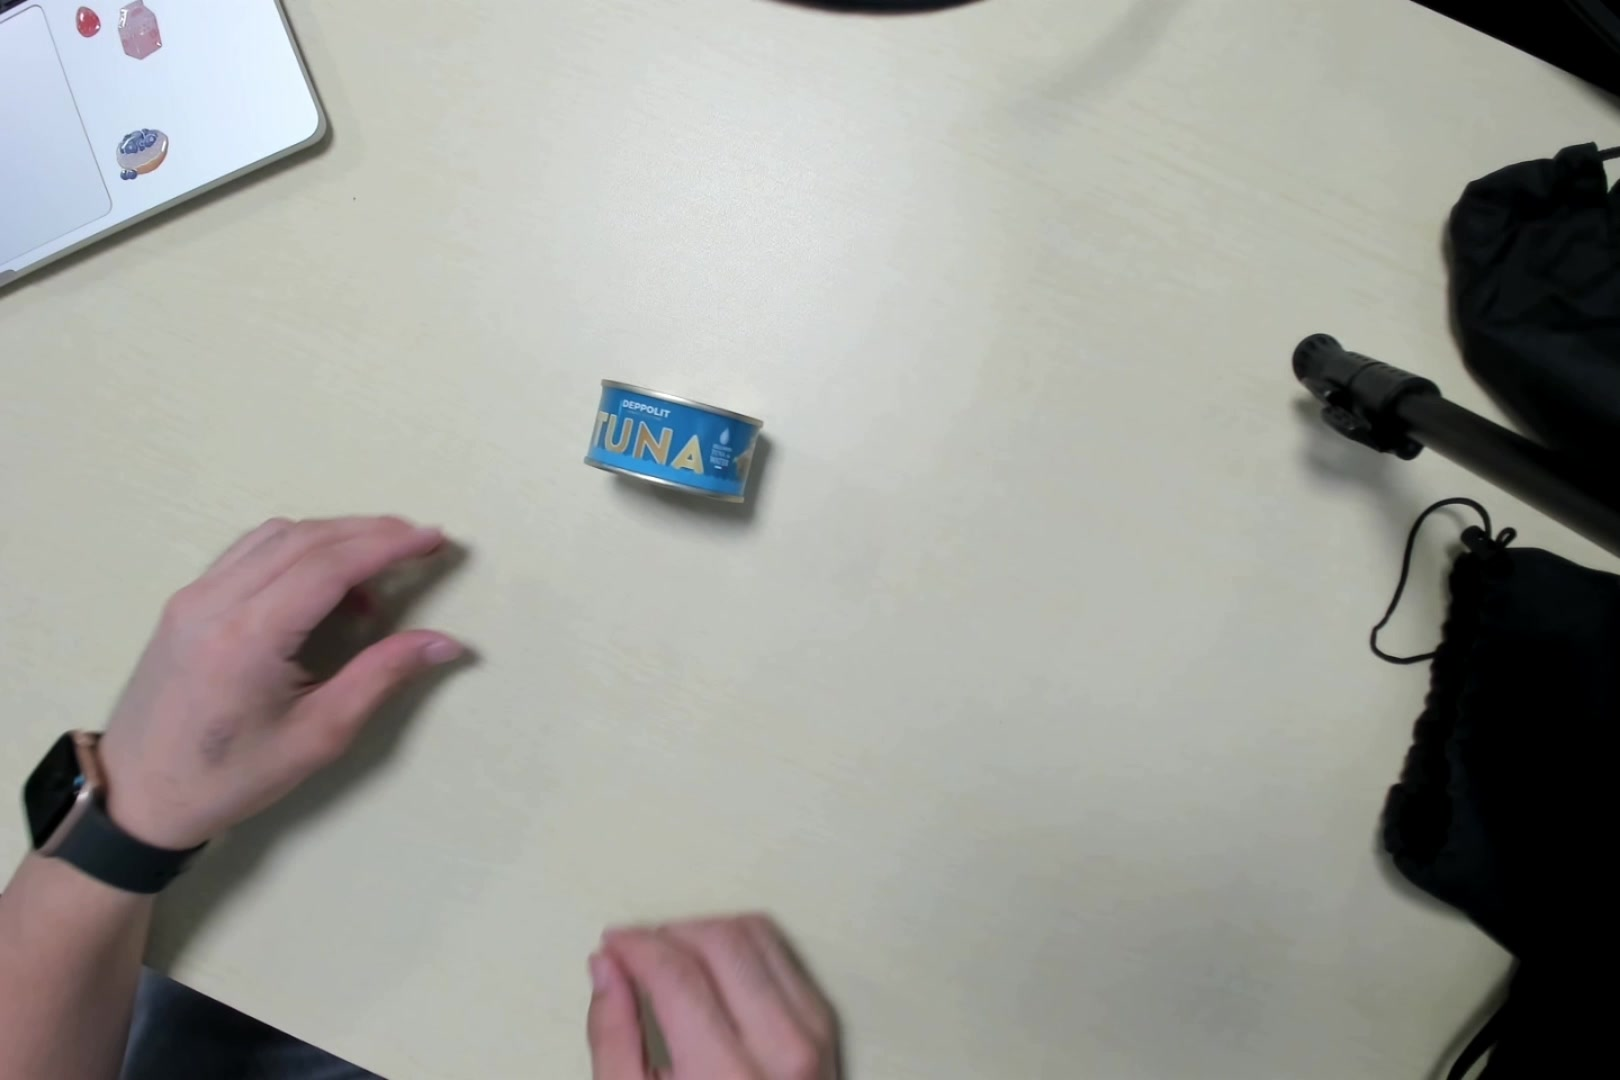CannedTunaDace_0-99g_NonHalal_NonHealthy: (582, 378, 773, 518)
